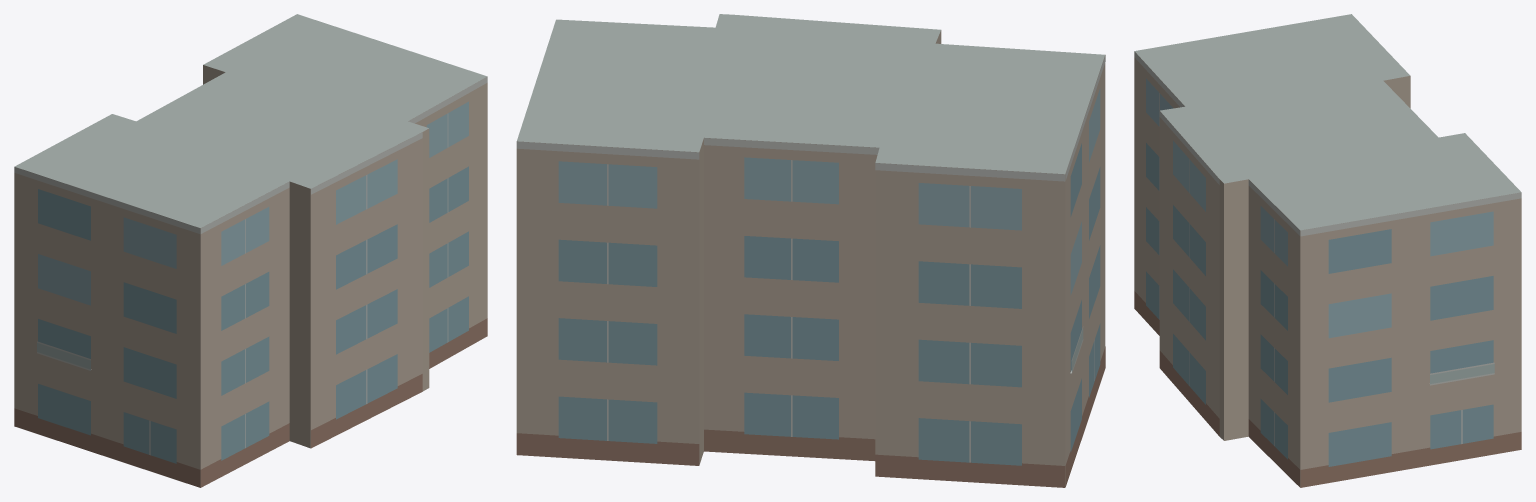
File: survey-upis-32884508.glb
3 renders of one model, left to right at view 1: azimuth 30°, elevation 25°; view 2: azimuth 150°, elevation 25°; view 3: azimuth 270°, elevation 25°, orthographic. The views are drawn at different scales.
Parts seen in each view (by area): view 1: survey-upis-32884508.tmp; view 2: survey-upis-32884508.tmp; view 3: survey-upis-32884508.tmp.
Boxes of the visible parts, x1,y1,x2,y2 form: survey-upis-32884508.tmp: [14, 14, 487, 487]; survey-upis-32884508.tmp: [516, 14, 1105, 487]; survey-upis-32884508.tmp: [1134, 14, 1521, 487].
Size of the model in its own units: 18.77 by 10.4 by 14.19.
